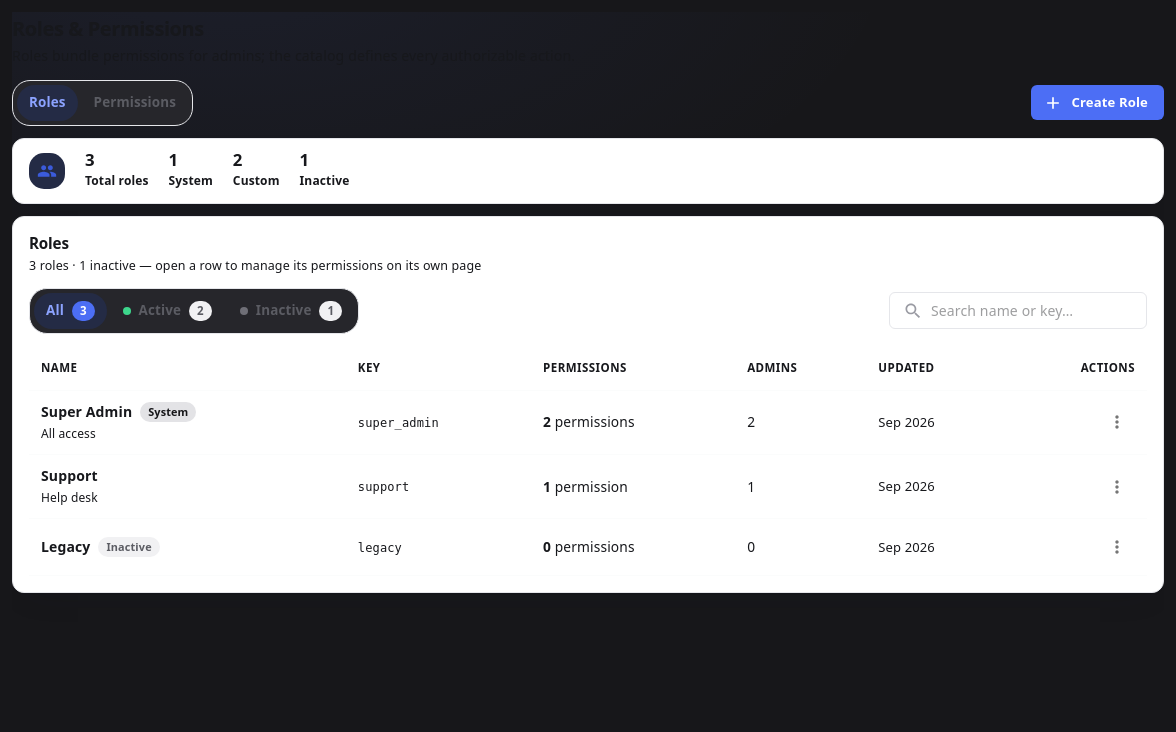
Scenario: RolesView (live RBAC wiring) › permissions screen is a read-only catalog reference
Expected: the text "Support" is shown, [41,465,98,487]
What coordinates should you click on to do the following:
click the button with aria-label "Show Permissions screen"
I would click on:
 (135, 102)
Its box is [82,84,188,120].
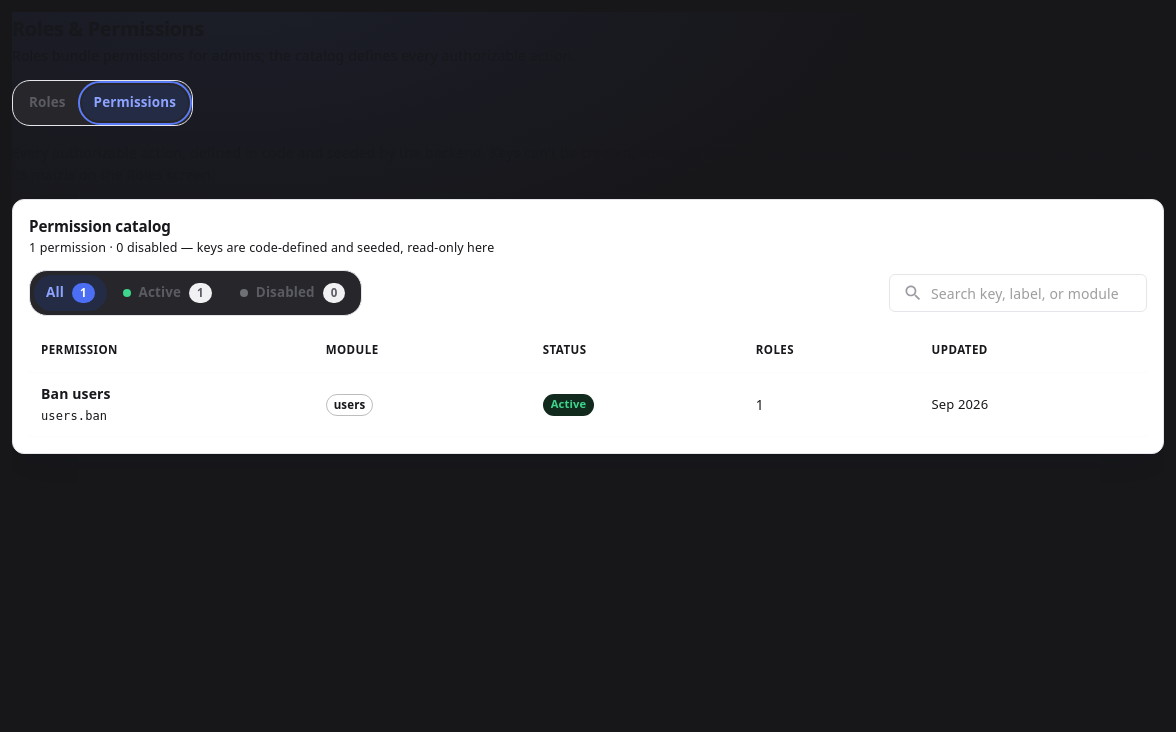
Result: the text "Ban users" is shown at [41,384,111,403]
Result: the text "code-defined and seeded" is shown at [29,239,494,256]
Result: the button "Create Role" is gone
